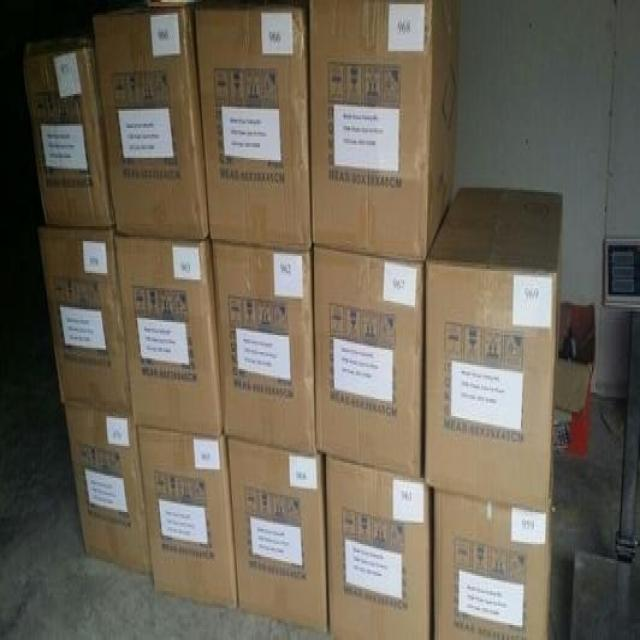box: (424, 186, 564, 511), (310, 0, 460, 262), (193, 6, 312, 250), (93, 7, 210, 241), (314, 245, 424, 476), (212, 240, 317, 454), (114, 234, 223, 437), (228, 438, 328, 634), (326, 455, 430, 638), (434, 483, 554, 638), (137, 427, 237, 610), (38, 226, 132, 413), (22, 39, 115, 227), (65, 403, 151, 574)
